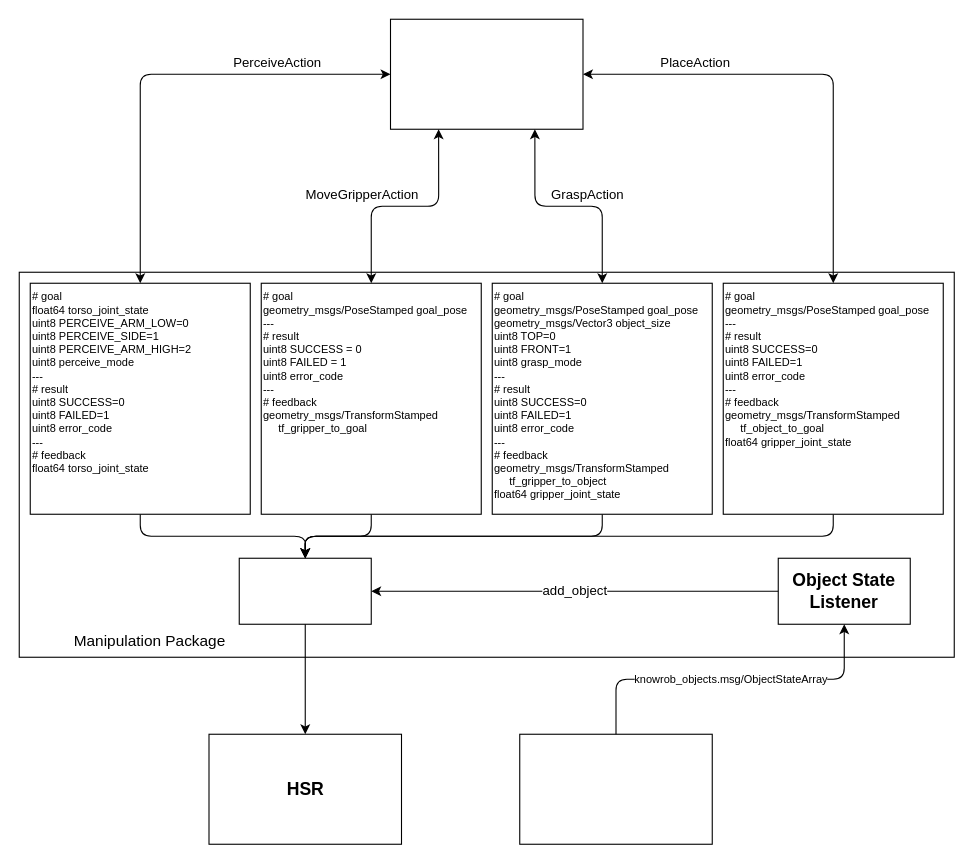
Some shapes in this 974 by 864 pixel diagram are drawn without their labels. The shapes that lost their labels are listed below. From the top down, each one's centre as x and y in pixels, then its label:
point (486, 73): Planning
point (304, 590): Giskard
point (615, 788): /knowledgebase/object_state
